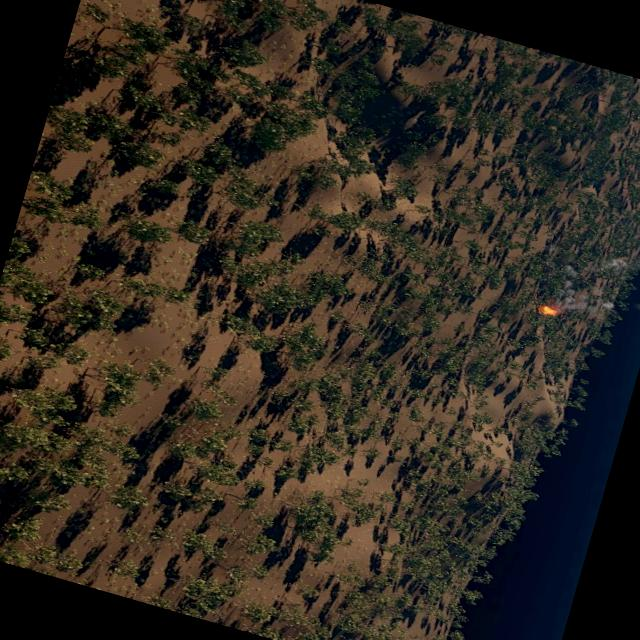fire: (537, 304, 558, 318)
smoke: (547, 236, 640, 339)
